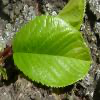Apple leaf: (11, 12, 93, 90)
